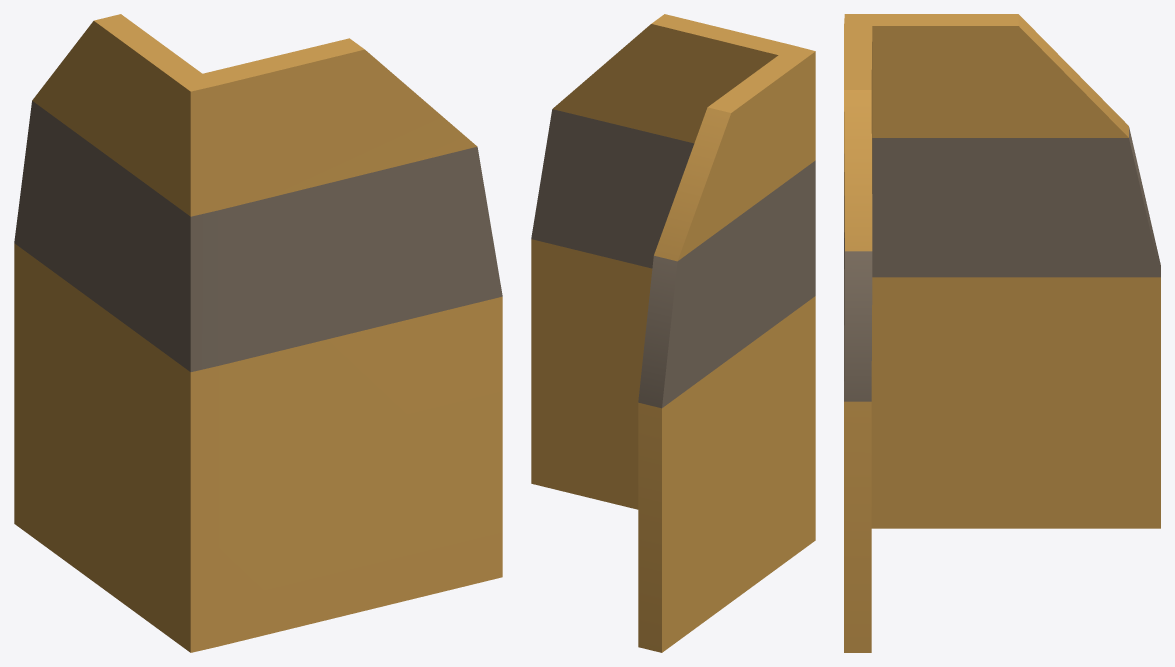
Rendered from Mesh_Bas_Pilier_01.fbx.
The picture shows the model from 3 angles, left to right: view 1: azimuth 30°, elevation 25°; view 2: azimuth 150°, elevation 25°; view 3: azimuth 270°, elevation 25°; orthographic projection. The views are drawn at different scales.
Visible parts, largest first — view 1: Mesh_Bas_Pilier_01; view 2: Mesh_Bas_Pilier_01; view 3: Mesh_Bas_Pilier_01.
Boxes of the visible parts, x1,y1,x2,y2 form: Mesh_Bas_Pilier_01: (14,14,502,652); Mesh_Bas_Pilier_01: (531,14,815,652); Mesh_Bas_Pilier_01: (844,14,1160,652).
Bounding box in the file's own units: 22.75 × 39.15 × 22.37.
